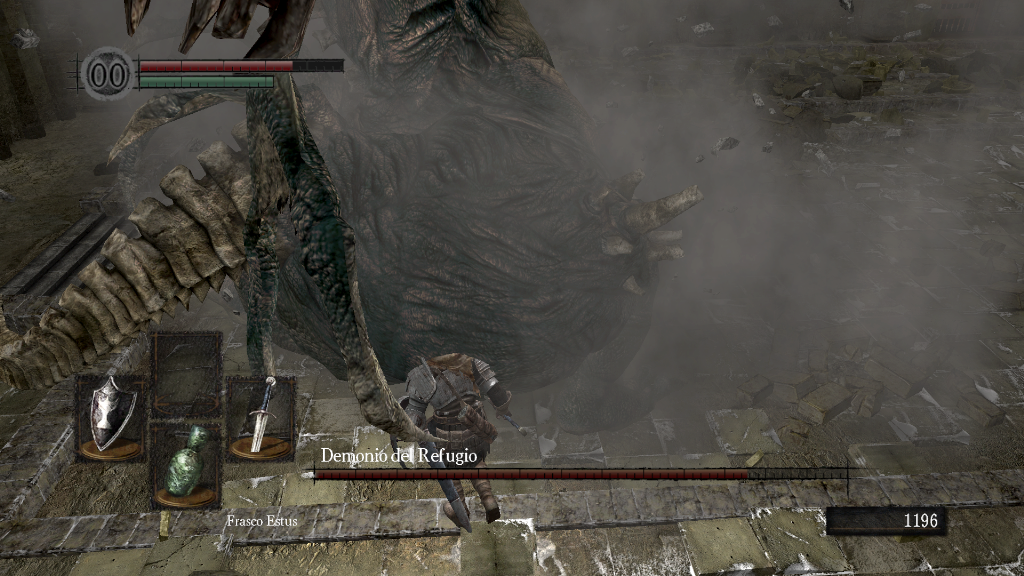asylumDemon: (1, 4, 667, 445)
bossHP: (314, 469, 847, 479)
health: (138, 58, 343, 71)
humanity: (80, 45, 136, 102)
player: (389, 352, 532, 531)
souls: (825, 506, 945, 536)
stamina: (138, 74, 274, 88)
